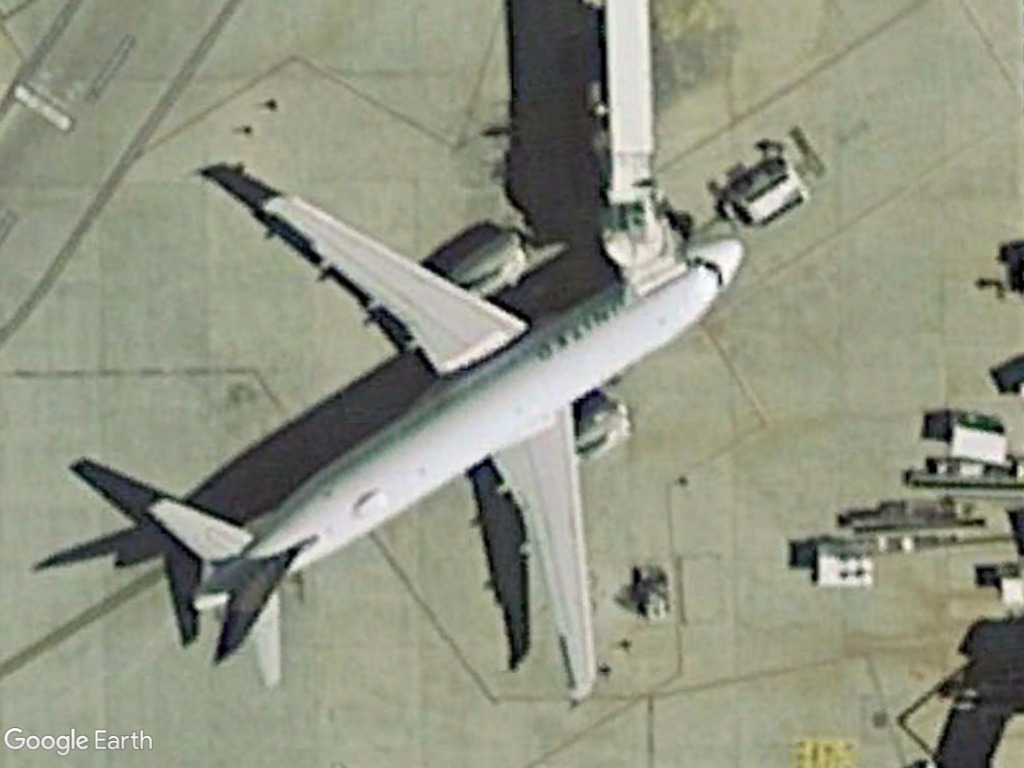airliner: (120, 161, 754, 717)
